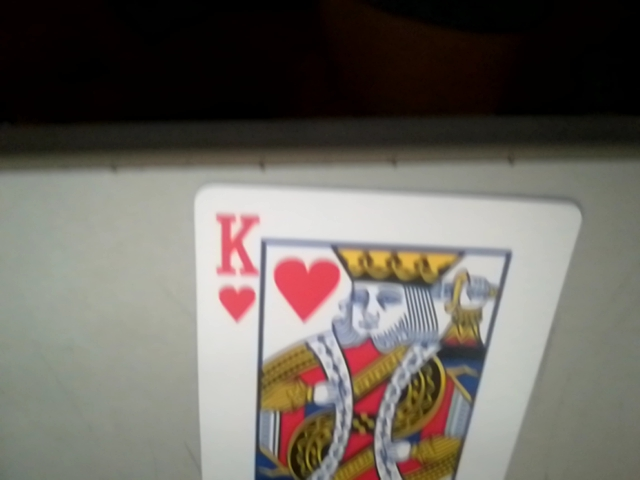hx k: (211, 212, 267, 328)
